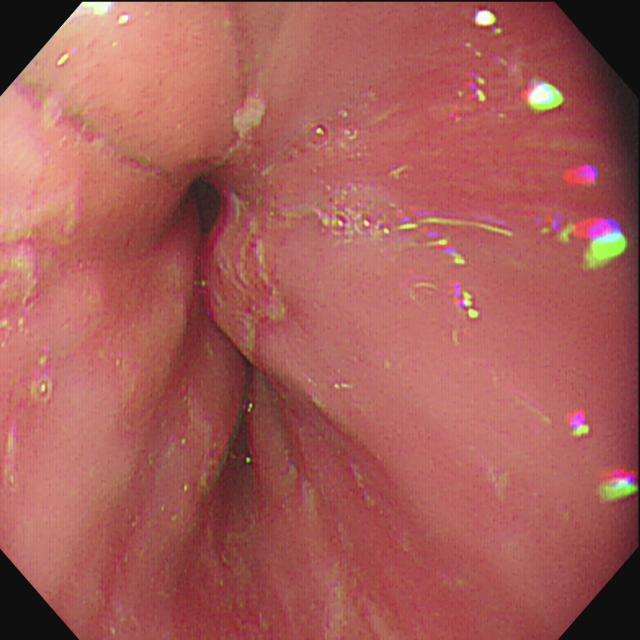E: (194, 184, 222, 228)
J: (231, 95, 270, 142)
U: (394, 209, 514, 268), (558, 220, 629, 273), (597, 467, 640, 504), (519, 82, 567, 114), (449, 280, 481, 321), (564, 165, 600, 187), (567, 410, 591, 439), (476, 10, 498, 29)
